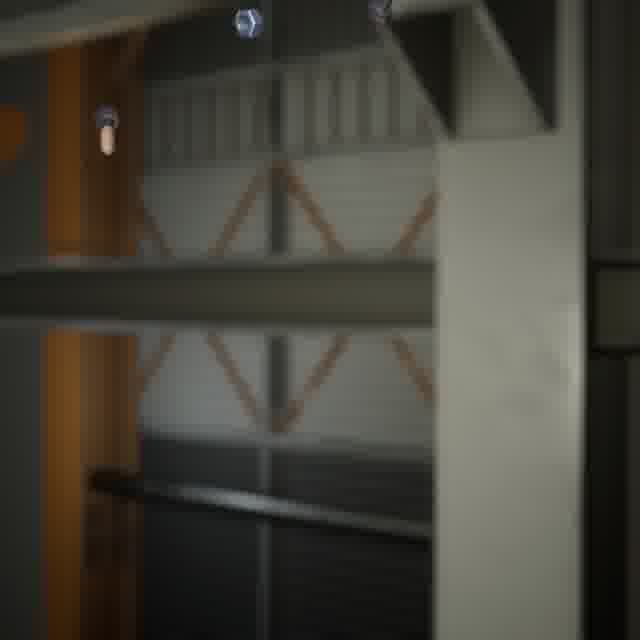bolt: (89, 101, 123, 161), (360, 0, 397, 29)
nut: (229, 5, 267, 42)
